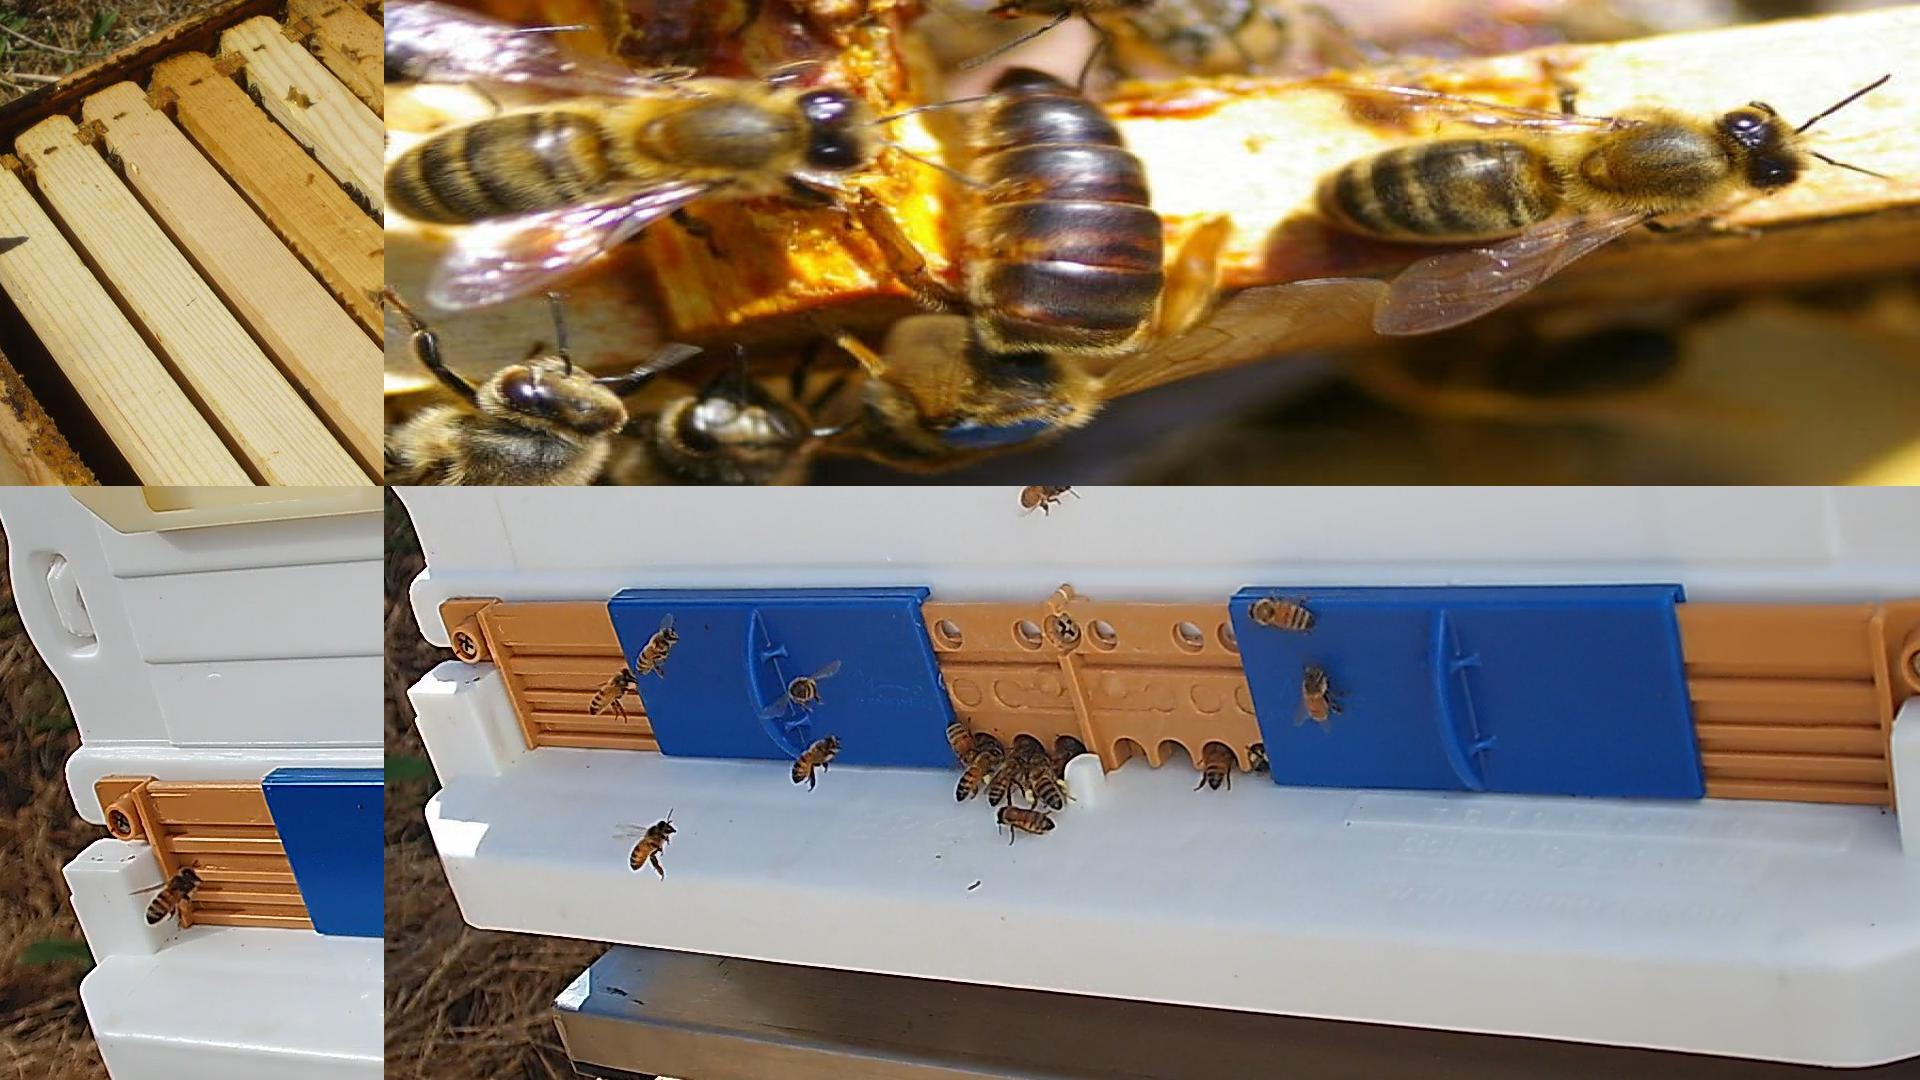bee: (393, 90, 877, 226), (1314, 110, 1795, 239), (384, 362, 623, 485), (994, 0, 1338, 83), (606, 377, 824, 486), (145, 870, 200, 922), (1244, 600, 1314, 632), (792, 737, 839, 782), (989, 751, 1026, 805), (589, 670, 634, 713), (632, 821, 670, 870), (636, 628, 677, 672), (1301, 667, 1331, 723), (999, 807, 1054, 833), (947, 724, 982, 764), (1020, 486, 1071, 509), (1206, 746, 1230, 790), (787, 675, 820, 706)
pollenbee: (956, 749, 999, 801), (1026, 758, 1065, 808), (1248, 741, 1271, 772)
queen: (861, 64, 1160, 459)
